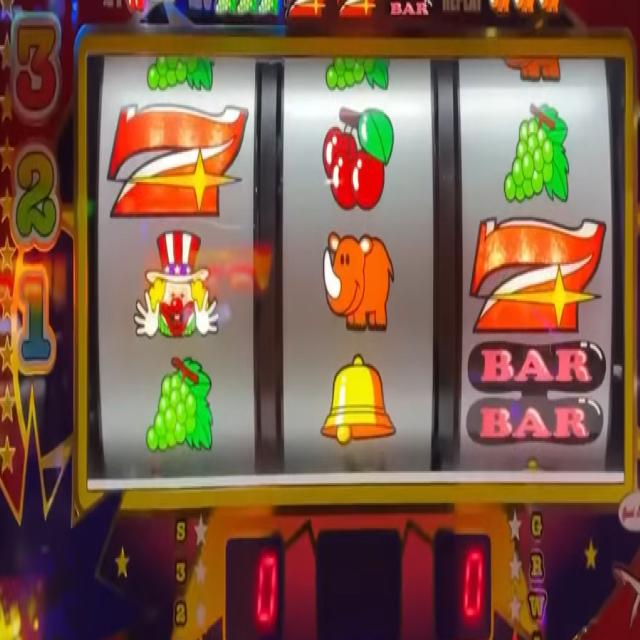bar: (465, 338, 606, 449), (388, 0, 435, 25)
bell: (320, 350, 397, 450)
cherry: (321, 104, 395, 216), (125, 0, 148, 14)
clown: (132, 225, 220, 340)
display: (85, 45, 627, 485)
elephant: (321, 224, 396, 337), (503, 53, 563, 88), (537, 0, 561, 18), (485, 0, 510, 17), (512, 0, 535, 16)
grape: (502, 96, 571, 210), (144, 350, 214, 460), (325, 56, 392, 100), (145, 56, 217, 96), (257, 0, 280, 21), (213, 0, 235, 18), (235, 0, 258, 17)
z: (106, 97, 250, 218), (467, 214, 607, 336), (282, 0, 328, 26), (335, 0, 380, 24)
